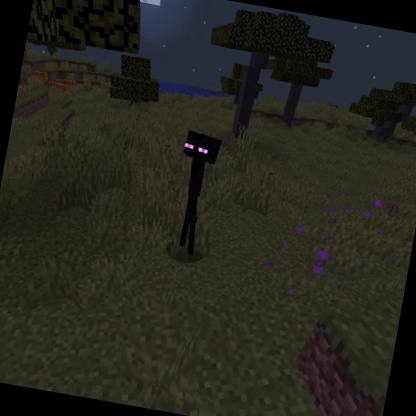enderman: (161, 126, 227, 261)
